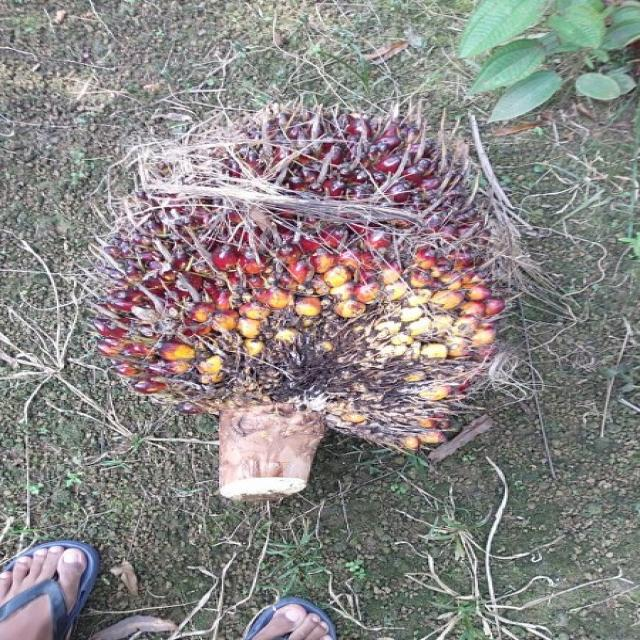fraksi 1: (104, 89, 548, 542)
